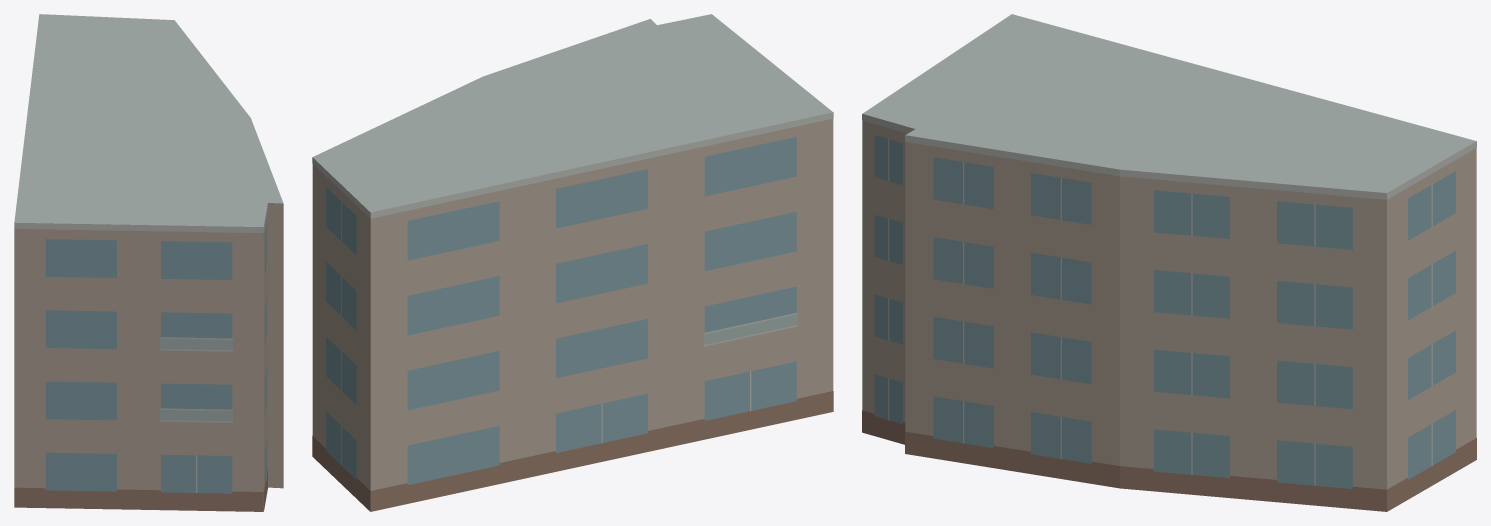
Rendered from survey-upis-32772525.glb.
3 renders of one model, left to right at view 1: azimuth 30°, elevation 25°; view 2: azimuth 150°, elevation 25°; view 3: azimuth 270°, elevation 25°, orthographic. The views are drawn at different scales.
Visible parts, largest first — view 1: survey-upis-32772525.tmp; view 2: survey-upis-32772525.tmp; view 3: survey-upis-32772525.tmp.
Boxes of the visible parts, bbox=[...] form: survey-upis-32772525.tmp: bbox=[14, 14, 283, 511]; survey-upis-32772525.tmp: bbox=[312, 14, 833, 511]; survey-upis-32772525.tmp: bbox=[862, 14, 1476, 511].
Size of the model in its own units: 13.99 by 11.6 by 20.28.
